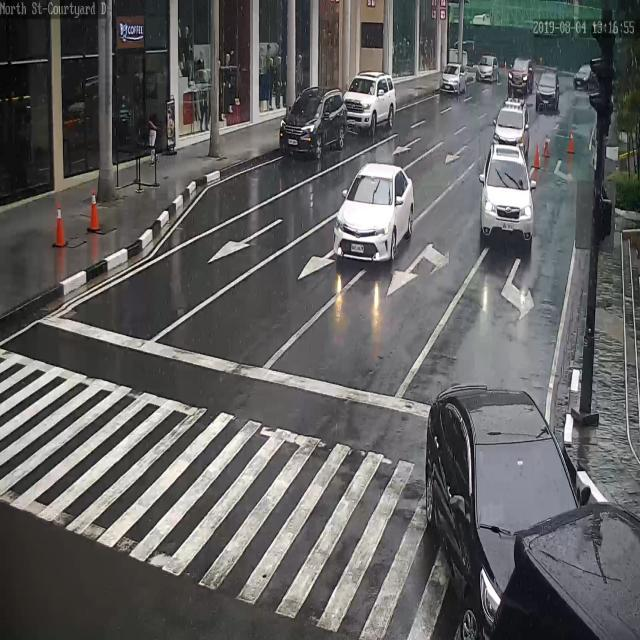car: (426, 382, 581, 640), (334, 163, 414, 263), (481, 141, 533, 246), (279, 85, 348, 157), (343, 70, 396, 134), (493, 99, 529, 154), (507, 58, 534, 94), (536, 69, 560, 108), (441, 63, 468, 94), (573, 62, 598, 92), (475, 54, 499, 82)
van: (488, 500, 639, 640)
